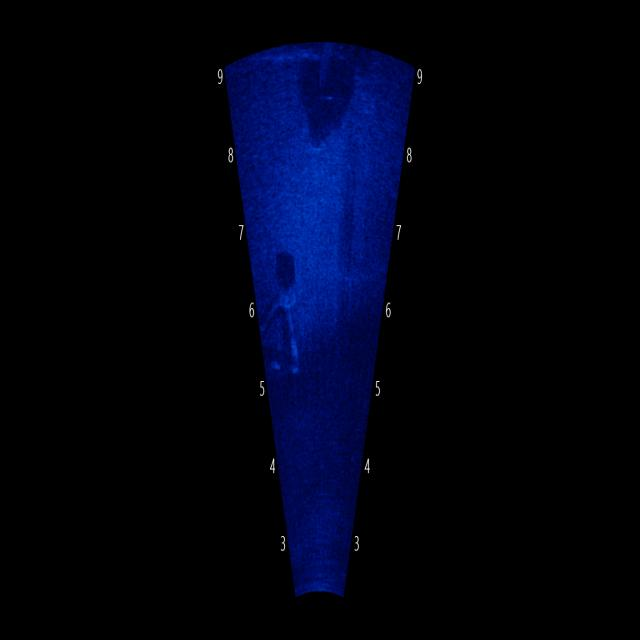triangle: (266, 237, 306, 378)
